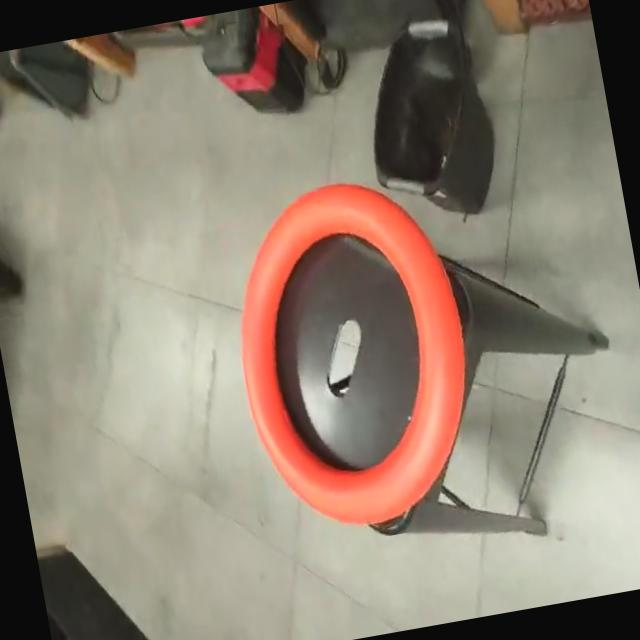note: (206, 154, 496, 540)
